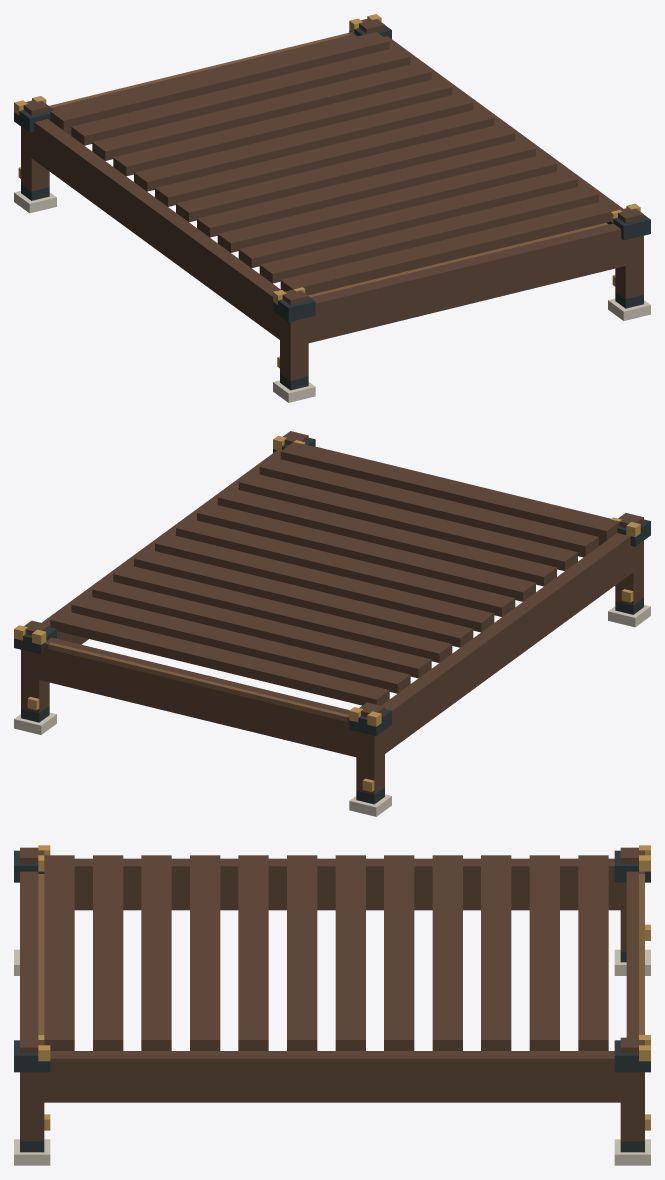
The picture shows the model from 3 angles, top to bottom: view 1: azimuth 30°, elevation 25°; view 2: azimuth 150°, elevation 25°; view 3: azimuth 270°, elevation 25°; orthographic projection. The views are drawn at different scales.
Parts seen in each view (by area): view 1: 住宅床架; view 2: 住宅床架; view 3: 住宅床架.
Boxes of the visible parts, box(x1,y1,x2,y2) form: 住宅床架: box(14, 14, 650, 402); 住宅床架: box(14, 431, 650, 816); 住宅床架: box(14, 845, 650, 1165).
Bounding box in the file's own units: 1.6 × 0.42 × 2.1.
Materials: 5 (5 with a texture image).
